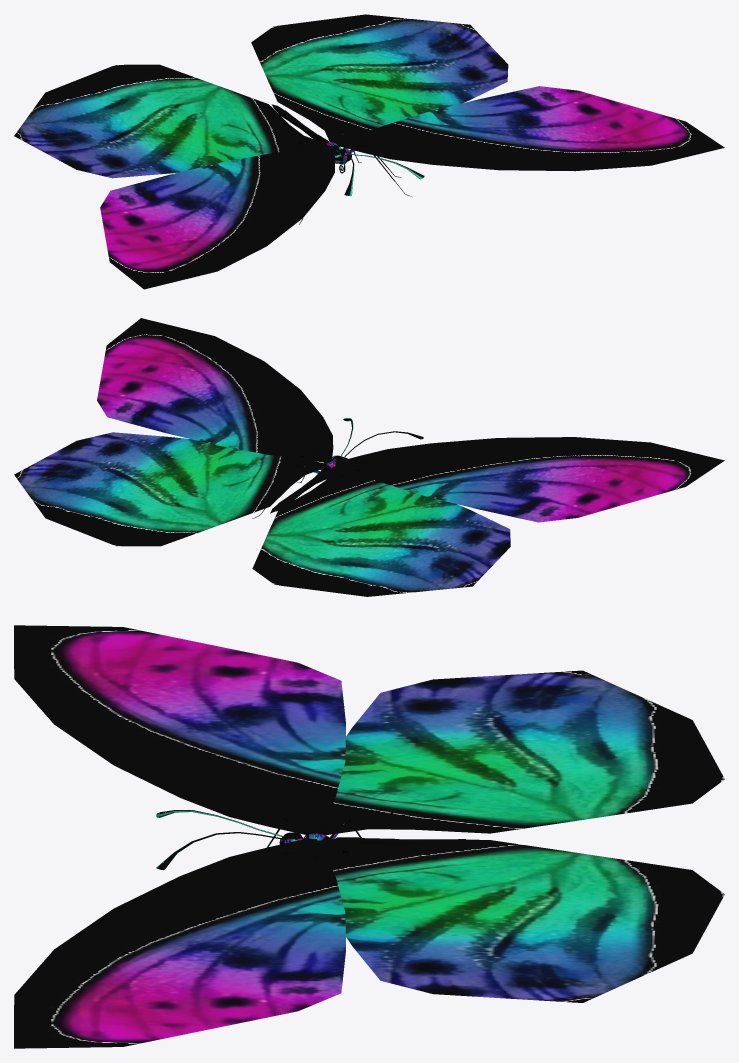
The model's file is butterfly.obj.
3 renders of one model, top to bottom at view 1: azimuth 30°, elevation 25°; view 2: azimuth 150°, elevation 25°; view 3: azimuth 270°, elevation 25°, orthographic. The views are drawn at different scales.
Parts seen in each view (by area): view 1: probocis1; view 2: probocis1; view 3: probocis1.
Part boxes in pixels (bbox=[...]): probocis1: bbox=[14, 14, 724, 289]; probocis1: bbox=[14, 318, 724, 596]; probocis1: bbox=[14, 625, 724, 1048].
Size of the model in its own units: 69.95 by 6.65 by 49.65.
